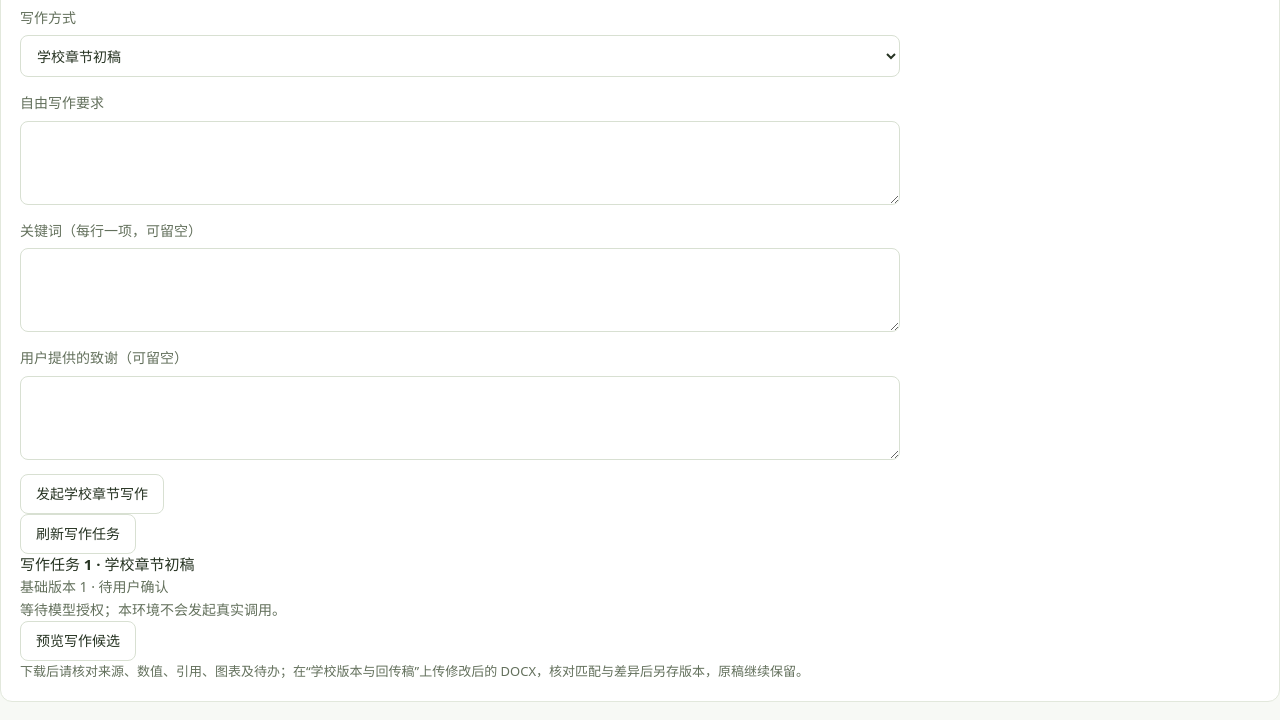
it: keeps an unauthorized school writing request waiting without inventing a candidate
(page scrolled)
Check: the text "等待模型授权；本环境不会发起真实调用。" is shown, box [20,600,286,619]
Step 1. Click the button "预览写作候选" → click(78, 641), box [20,621,136,661]
(page scrolled)
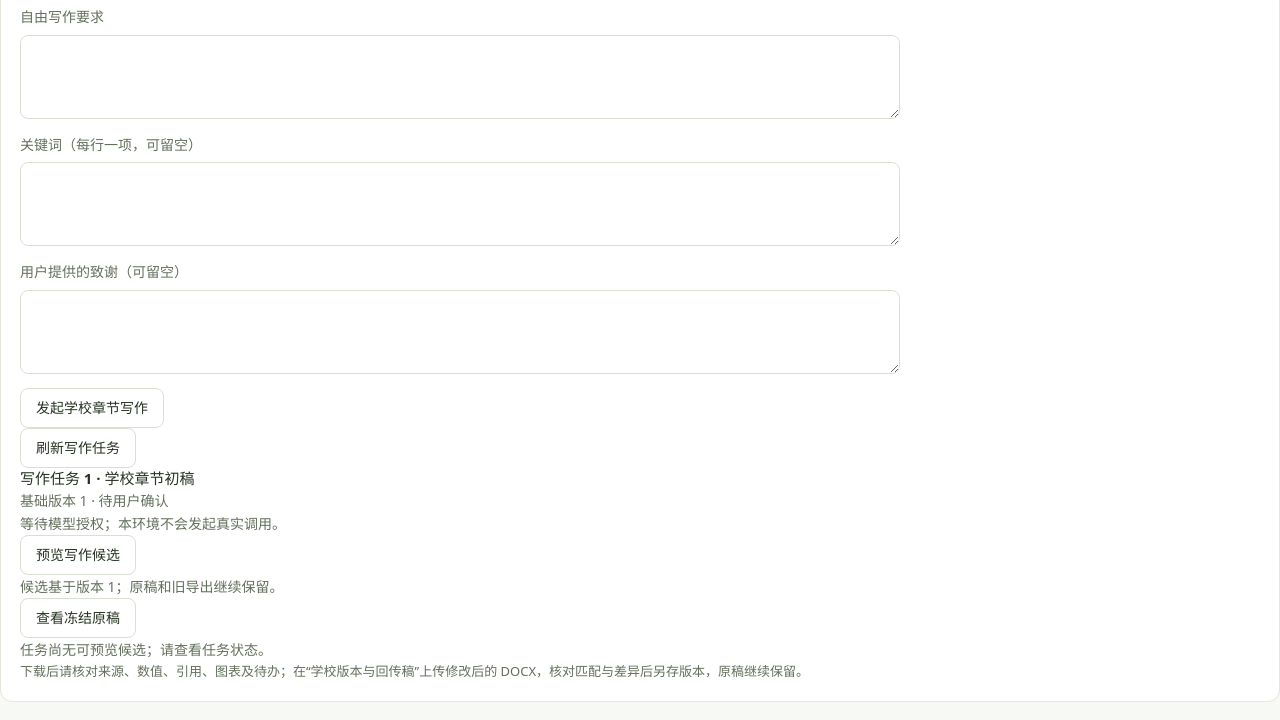
Check: the text "任务尚无可预览候选；请查看任务状态。" is shown, box [20,640,272,659]
